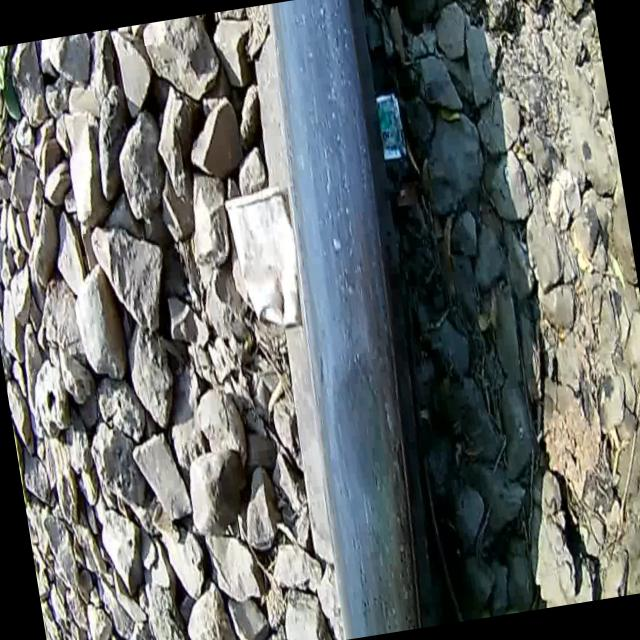Squats: (227, 0, 468, 640)
